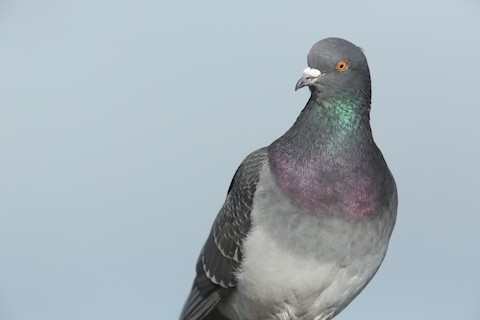pigeon: (167, 35, 404, 315)
